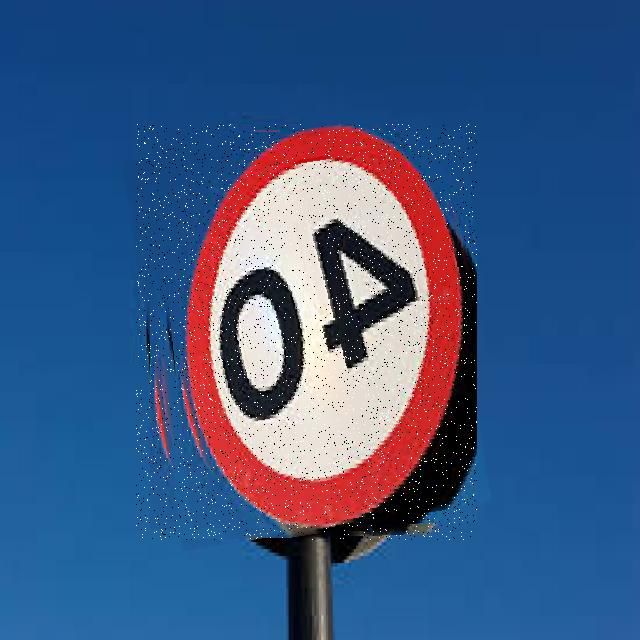speed limit 40: (136, 124, 477, 540)
